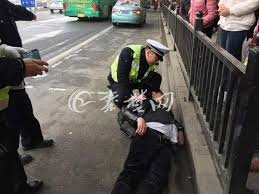falling: (85, 86, 196, 190)
